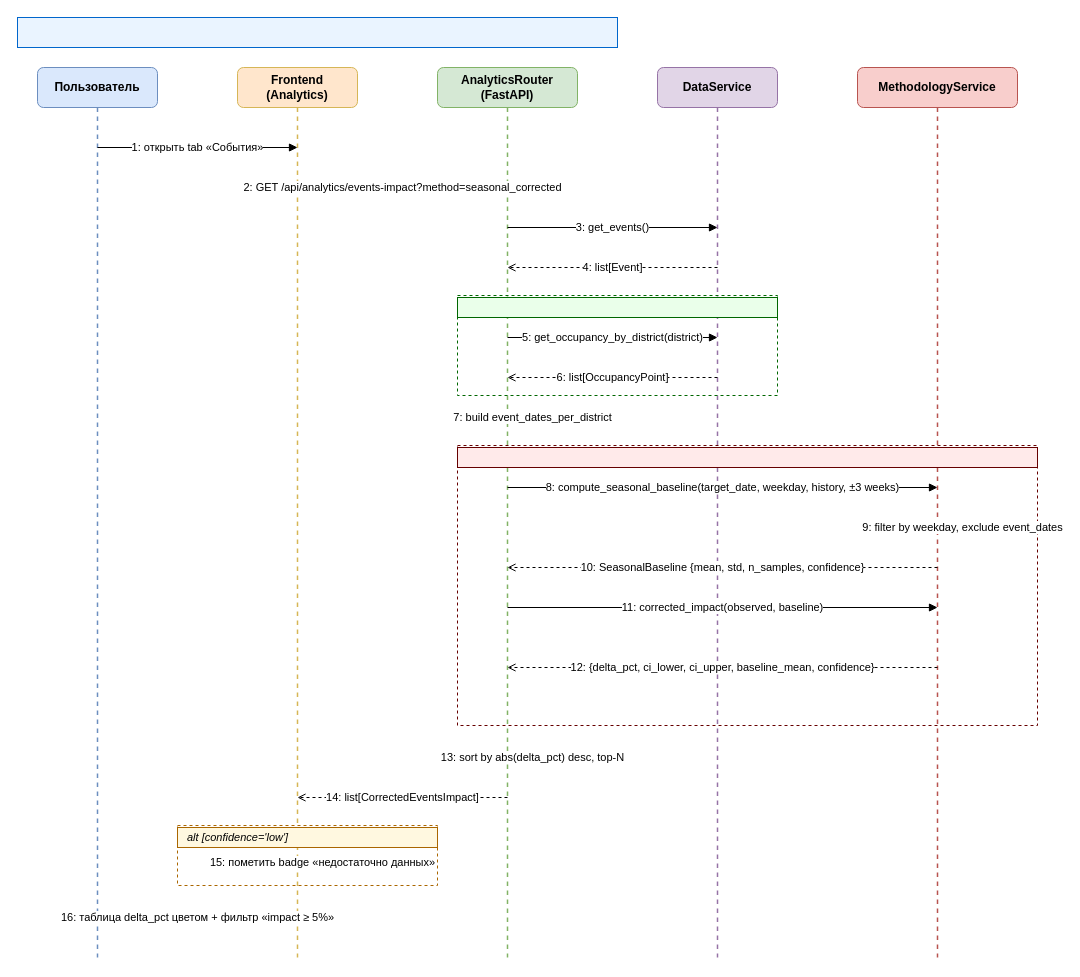
Some shapes in this 1080 by 977 pixel diagram are drawn without their labels. Here are the shapes that lost their labels. From the top down, the centre of each, then its label:
the point at 317,32: sd [UC11: Анализ событий с corrected impact]
the point at 617,307: loop [для каждого district в events]
the point at 747,457: loop [для каждого event с district + date]
